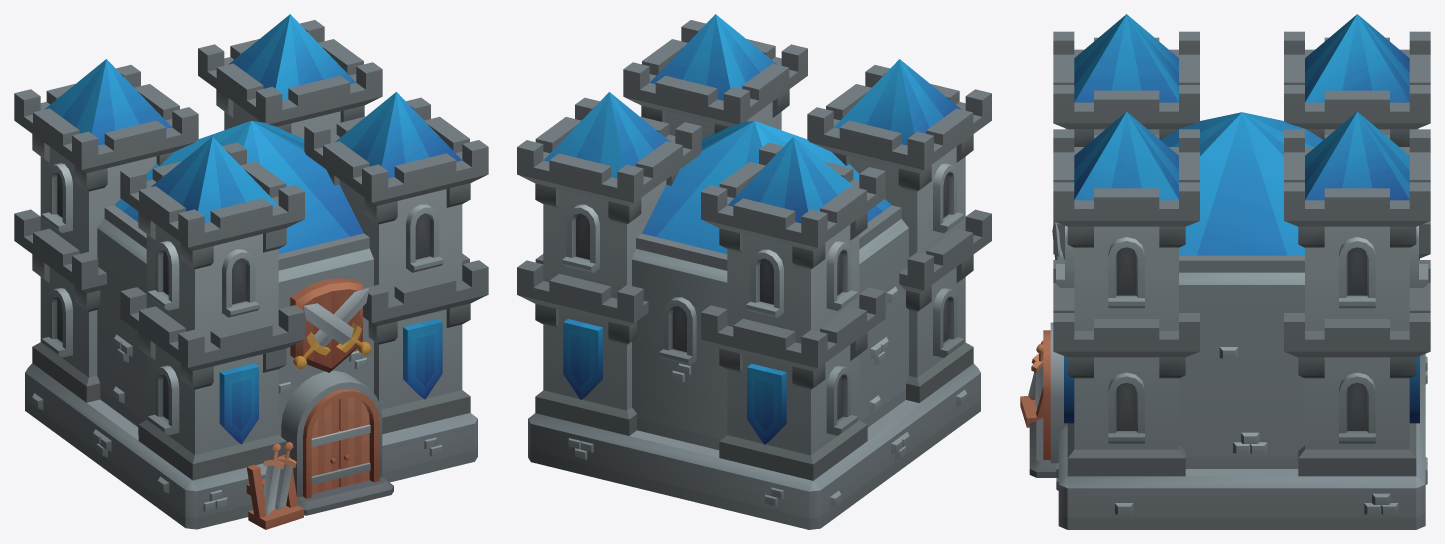
File: barracks_blue.glb
3 renders of one model, left to right at view 1: azimuth 30°, elevation 25°; view 2: azimuth 150°, elevation 25°; view 3: azimuth 270°, elevation 25°, orthographic. The views are drawn at different scales.
Visible parts, largest first — view 1: building_barracks_blue; view 2: building_barracks_blue; view 3: building_barracks_blue.
Boxes of the visible parts, x1,y1,x2,y2 form: building_barracks_blue: (14,14,488,529); building_barracks_blue: (517,14,991,529); building_barracks_blue: (1020,14,1430,529).
Bounding box in the file's own units: 1.44 × 1.64 × 1.57.
1 material, 1 textured.
